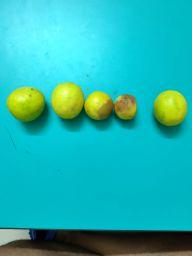lemon: (6, 86, 46, 124), (152, 89, 188, 127), (52, 83, 83, 120), (84, 90, 113, 121), (114, 95, 137, 119)
